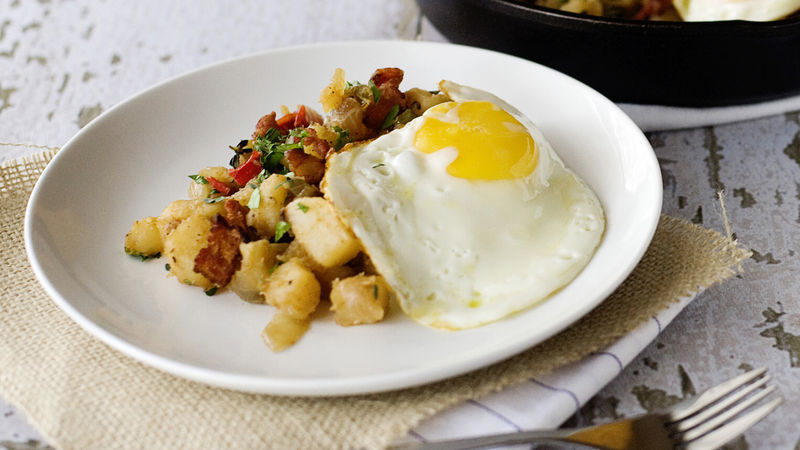boiled potatoes: (125, 166, 376, 344)
fried egg: (372, 96, 564, 325)
